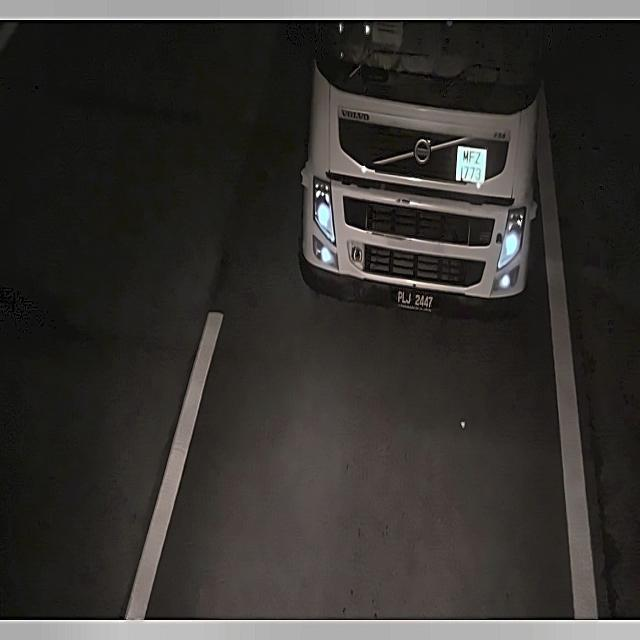car: (388, 280, 440, 316)
